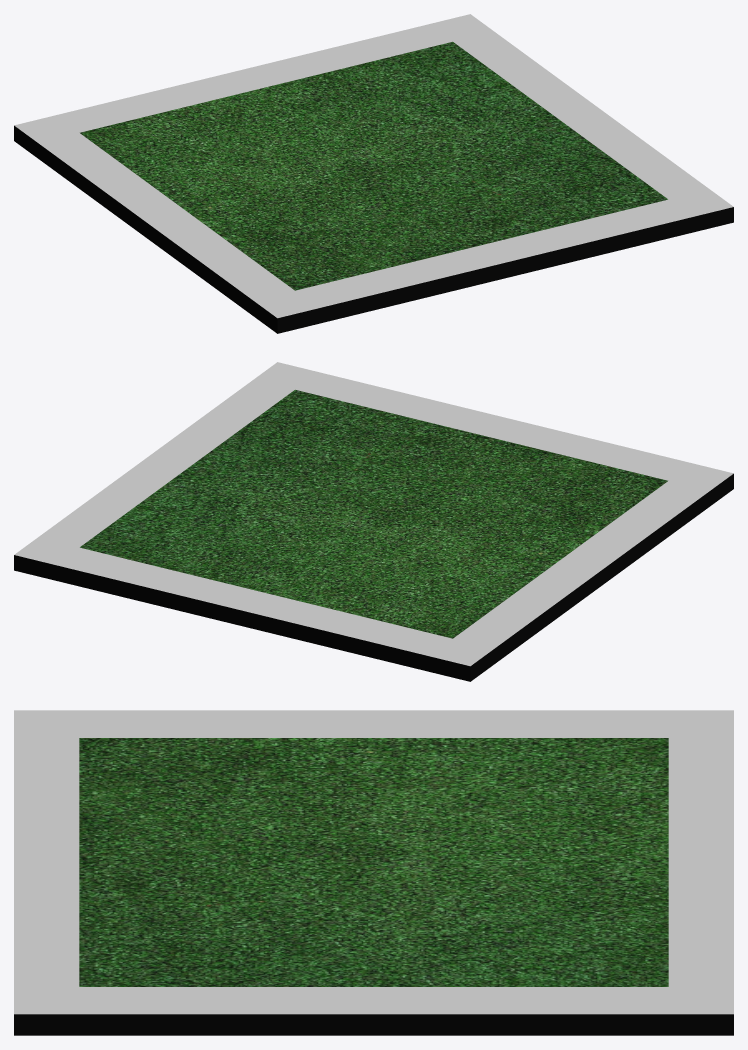
File: CarGrid.fbx
3 views of the same model, one above another, from view 1: azimuth 30°, elevation 25°; view 2: azimuth 150°, elevation 25°; view 3: azimuth 270°, elevation 25° (orthographic). The views are drawn at different scales.
Visible parts, largest first — view 1: pCube1; view 2: pCube1; view 3: pCube1.
Part boxes in pixels (x1=…): pCube1: x1=14, y1=14, x2=733, y2=333; pCube1: x1=14, y1=362, x2=733, y2=681; pCube1: x1=14, y1=710, x2=733, y2=1035.
Bounding box in the file's own units: 26 × 0.8482 × 26.
